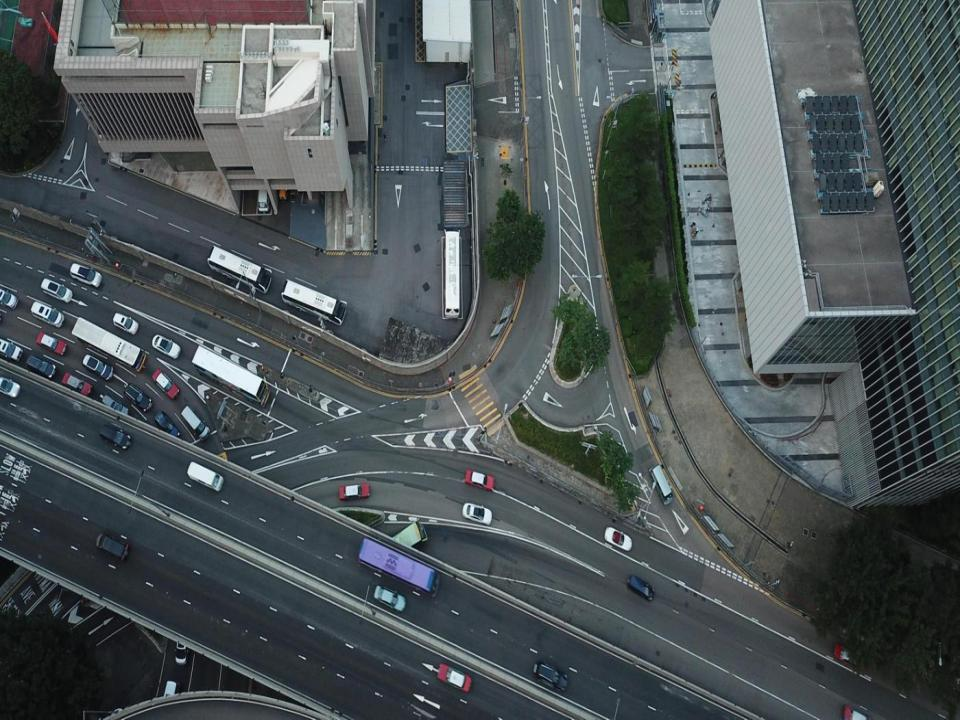bus: (357, 536, 439, 595), (192, 346, 270, 406), (70, 316, 146, 372), (207, 245, 272, 294), (281, 279, 347, 325), (371, 522, 426, 566), (443, 227, 461, 319), (162, 680, 178, 712)
car: (531, 662, 568, 692), (437, 662, 471, 694), (372, 584, 406, 616), (834, 642, 865, 670), (69, 262, 102, 288), (604, 524, 633, 553), (152, 369, 179, 400), (31, 302, 64, 327), (123, 383, 152, 411), (40, 278, 73, 302), (82, 355, 112, 380), (464, 467, 493, 492), (62, 372, 92, 395), (462, 503, 492, 526), (152, 334, 180, 358), (36, 332, 66, 354), (626, 576, 654, 598), (338, 482, 370, 501), (155, 412, 178, 438), (112, 312, 138, 334), (101, 394, 127, 416), (0, 339, 23, 361), (840, 705, 872, 719), (1, 376, 19, 397), (0, 287, 17, 308)
van: (186, 459, 223, 490), (181, 406, 208, 440), (650, 464, 672, 505), (96, 533, 128, 559), (98, 425, 132, 449), (25, 355, 55, 381), (255, 174, 268, 212), (174, 632, 187, 666)
